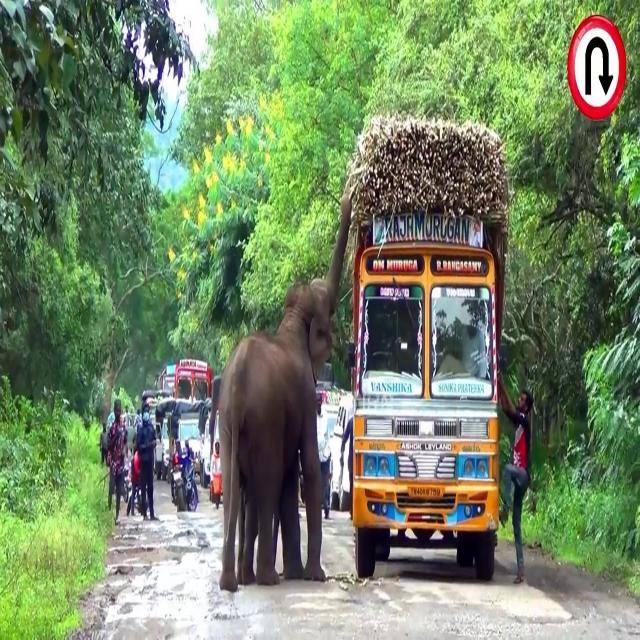Elephant: (217, 192, 353, 593)
